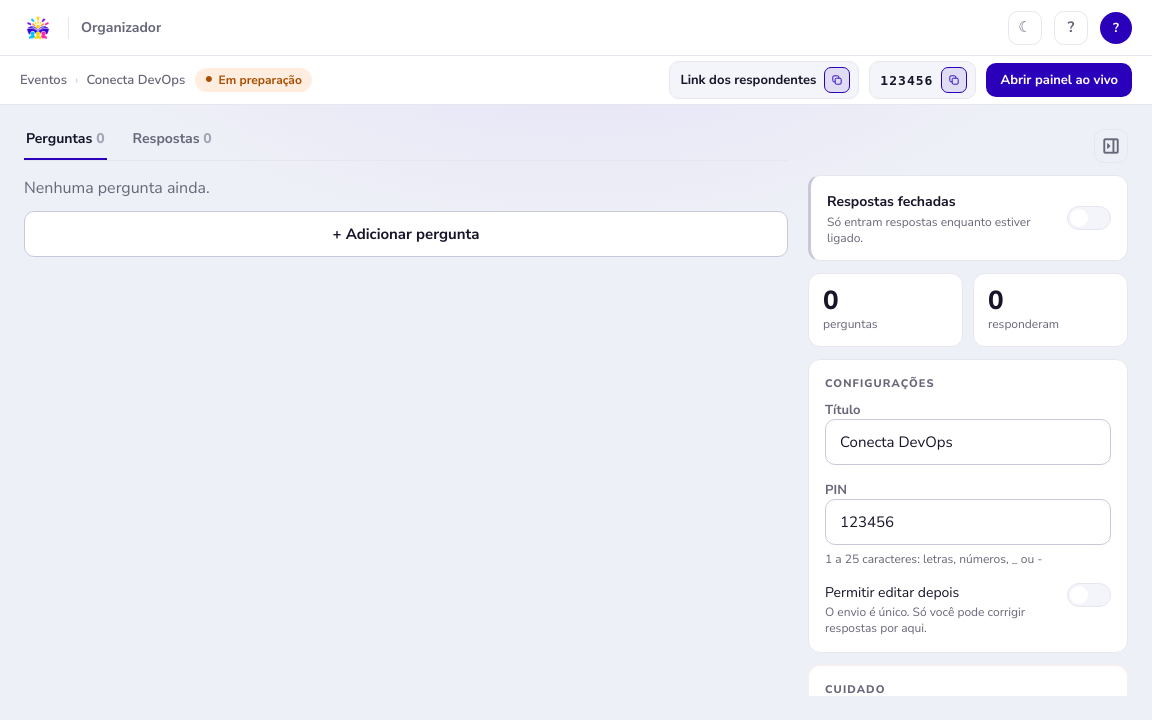
it: Editar evento › alterna entre as abas Perguntas e Respostas
The image size is (1152, 720).
Expected: the field labelled "Título" holds "Conecta DevOps", [825,419,1111,465]
Expected: the text "Nenhuma pergunta ainda." is shown, [24,177,210,199]
Click the tab "Respostas 0": (172,144) [131,129,214,160]
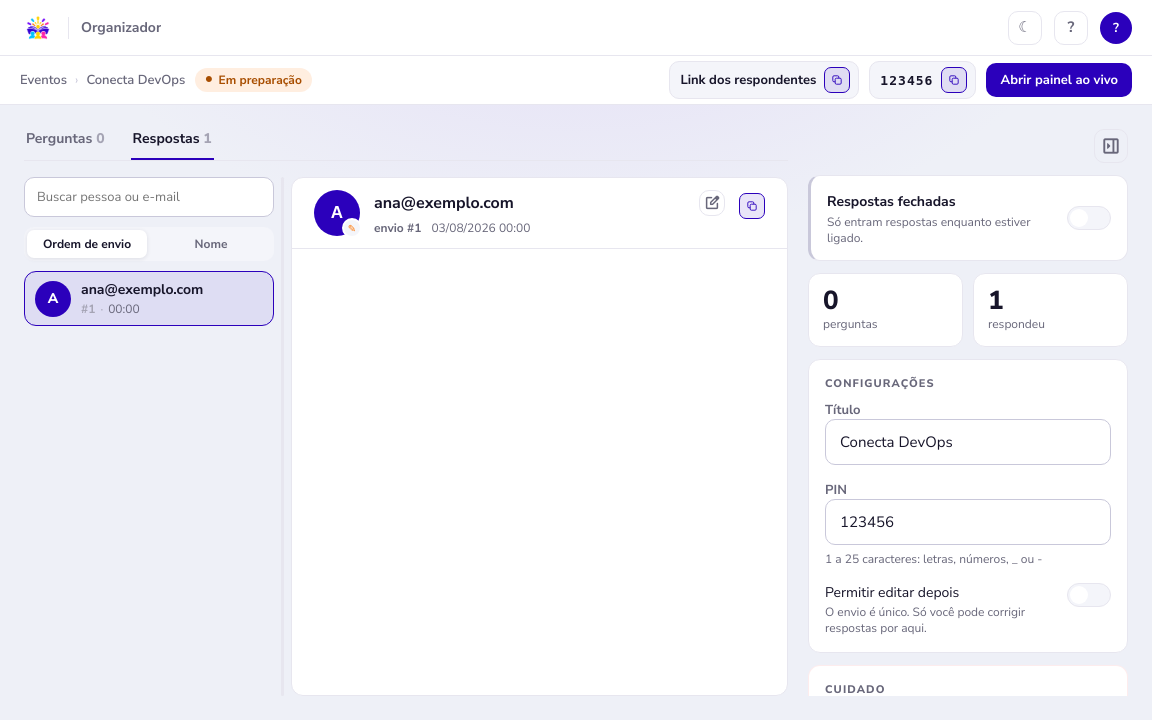
Expected: the field labelled "Título" is shown, [825,419,1111,465]
Expected: the 2nd text "ana@exemplo.com" is shown, [81,280,203,299]
Expected: the text "Nenhuma pergunta ainda." is gone
Click the tab "Perguntas 0": (65,144) [24,129,107,160]
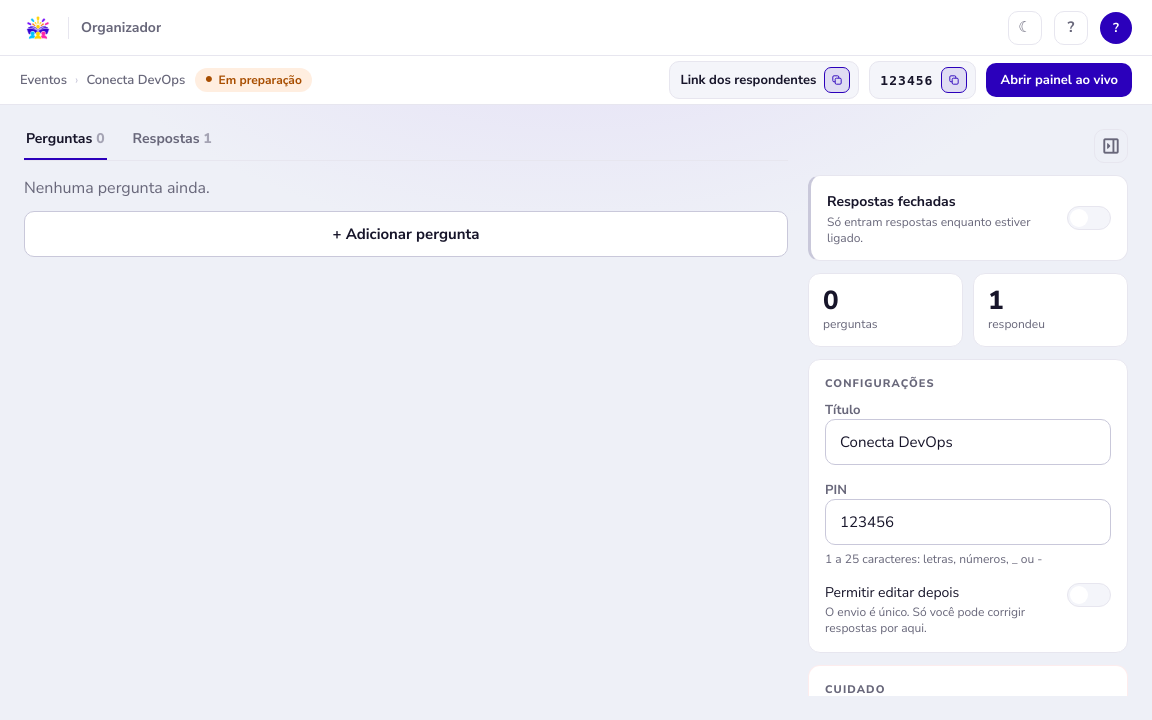
Expected: the field labelled "Título" is shown, [825,419,1111,465]
Expected: the text "Nenhuma pergunta ainda." is shown, [24,177,210,199]
Expected: the button "ana@exemplo.com" is gone
